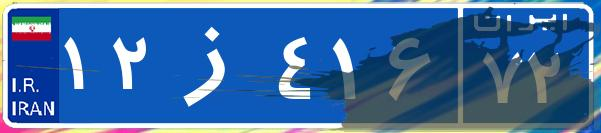1: (330, 28, 385, 110), (57, 26, 110, 107)
2: (110, 28, 158, 105), (525, 38, 570, 115)
4: (273, 28, 330, 110)
6: (385, 28, 445, 110)
7: (475, 38, 525, 113)
ز: (158, 15, 273, 115)
